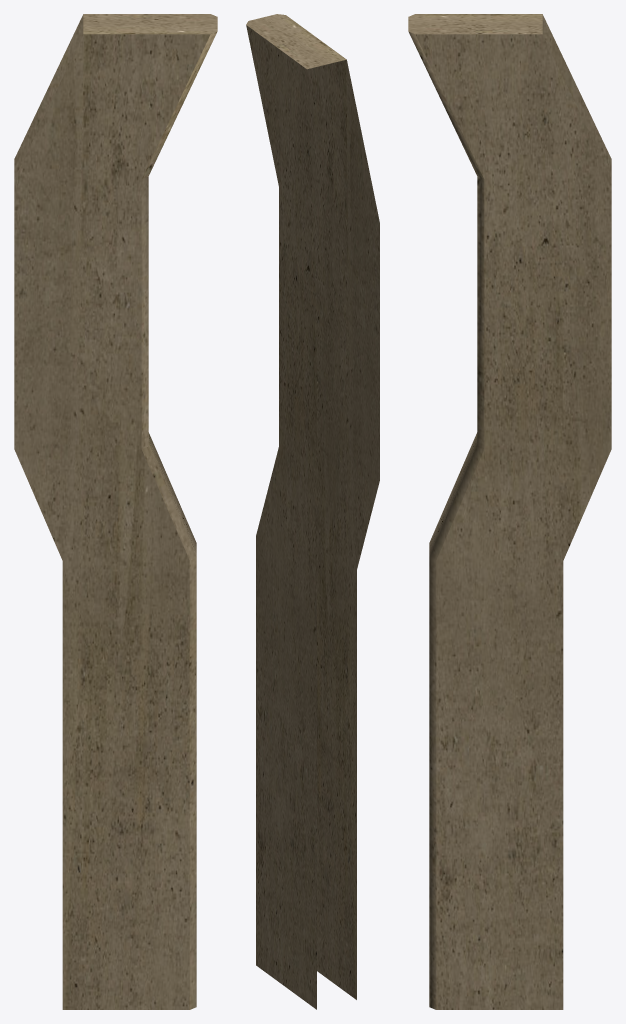
File: wall_thing.fbx
3 renders of one model, left to right at view 1: azimuth 90°, elevation 25°; view 2: azimuth 210°, elevation 25°; view 3: azimuth 270°, elevation 25°, orthographic. The views are drawn at different scales.
Parts seen in each view (by area): view 1: wall_thing; view 2: wall_thing; view 3: wall_thing.
Part boxes in pixels (x1=…): wall_thing: x1=14, y1=14, x2=217, y2=1009; wall_thing: x1=246, y1=14, x2=379, y2=1009; wall_thing: x1=408, y1=14, x2=611, y2=1009.
Size of the model in its own units: 18.6 by 416 by 78.51.
